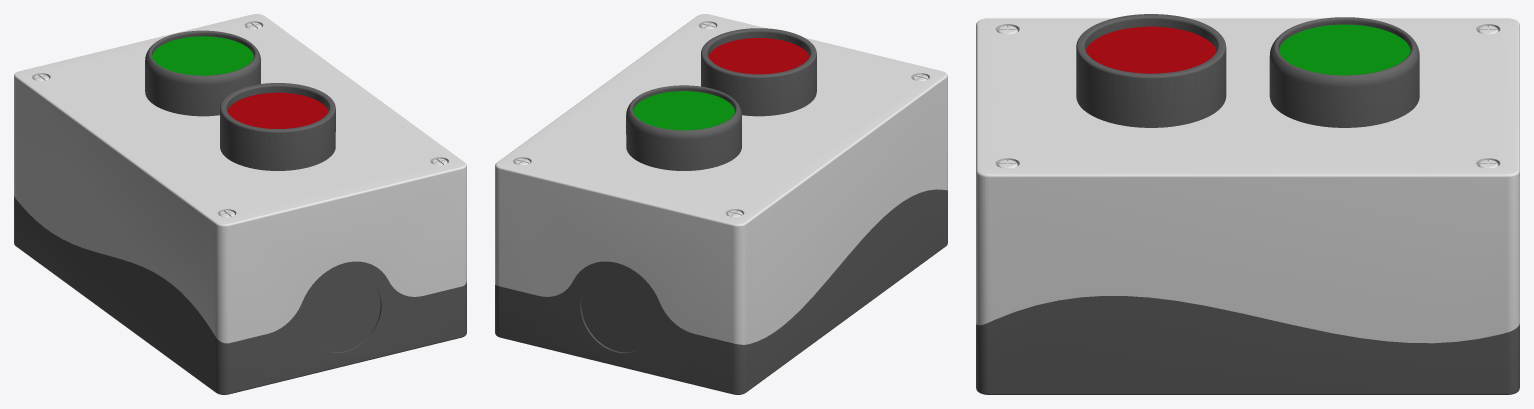
Rendered from Industrial Button.fbx.
The picture shows the model from 3 angles, left to right: view 1: azimuth 30°, elevation 25°; view 2: azimuth 150°, elevation 25°; view 3: azimuth 270°, elevation 25°; orthographic projection. The views are drawn at different scales.
Parts seen in each view (by area): view 1: Body, Green Button, Red BUtton; view 2: Body, Green Button, Red BUtton; view 3: Body, Green Button, Red BUtton.
Part boxes in pixels (bbox=[...]): Body: bbox=[14, 14, 466, 394]; Green Button: bbox=[152, 36, 253, 75]; Red BUtton: bbox=[227, 92, 328, 128]; Body: bbox=[495, 14, 947, 394]; Green Button: bbox=[633, 91, 734, 130]; Red BUtton: bbox=[708, 38, 809, 74]; Body: bbox=[976, 14, 1519, 394]; Green Button: bbox=[1278, 24, 1410, 75]; Red BUtton: bbox=[1085, 26, 1216, 73].
Bounding box in the file's own units: 73.03 × 58.74 × 106.
